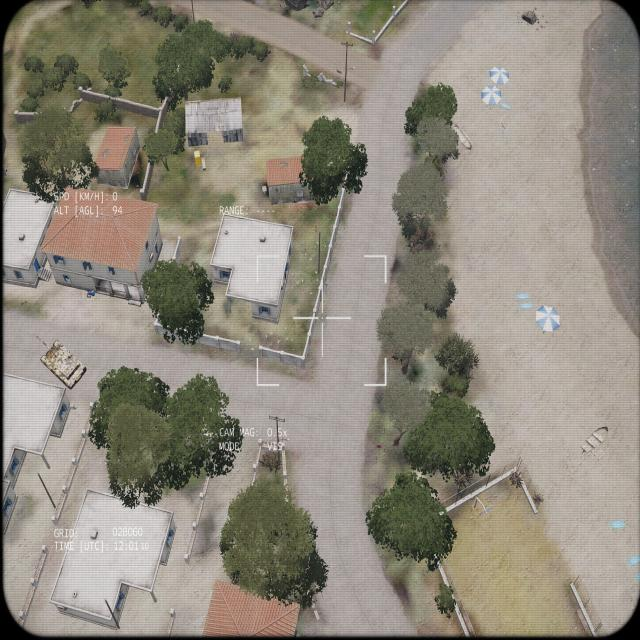tank: (33, 332, 88, 390)
